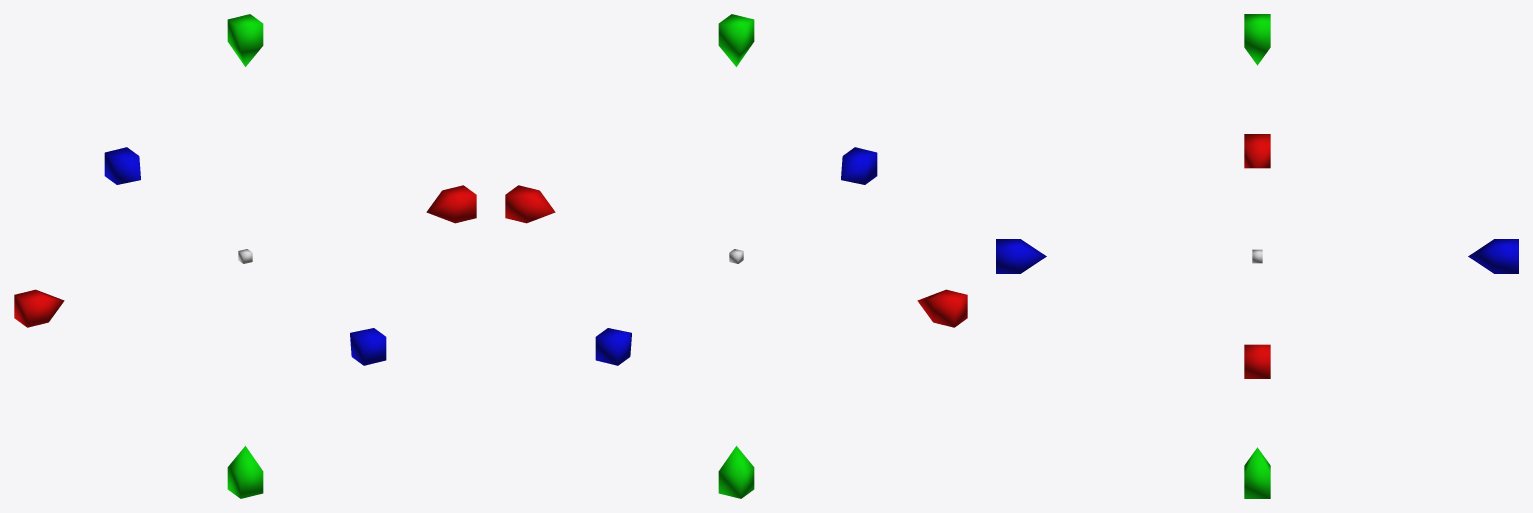
The model's file is marker.dae.
The picture shows the model from 3 angles, left to right: view 1: azimuth 30°, elevation 25°; view 2: azimuth 150°, elevation 25°; view 3: azimuth 270°, elevation 25°; orthographic projection.
Visible parts, largest first — view 1: Marker-0; view 2: Marker-0; view 3: Marker-0.
Part boxes in pixels (left/top/right/bottom): Marker-0: left=14, top=14, right=476, bottom=498; Marker-0: left=505, top=14, right=967, bottom=498; Marker-0: left=996, top=14, right=1518, bottom=498.
Size of the model in its own units: 1 by 1 by 1.
